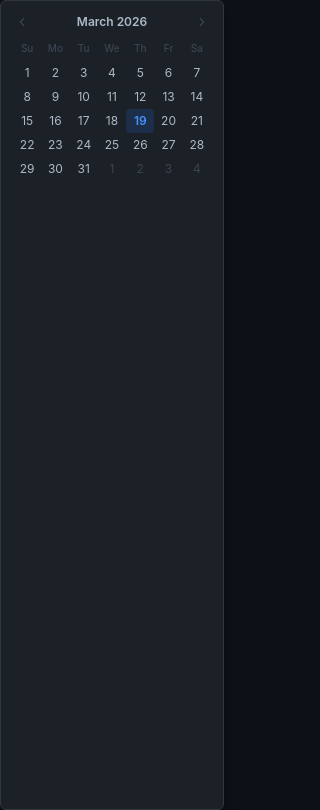
Test case: DatePicker › navigates to the previous month
Press the mouse on the button named "Previous month": (22, 22) [13,13,31,31]
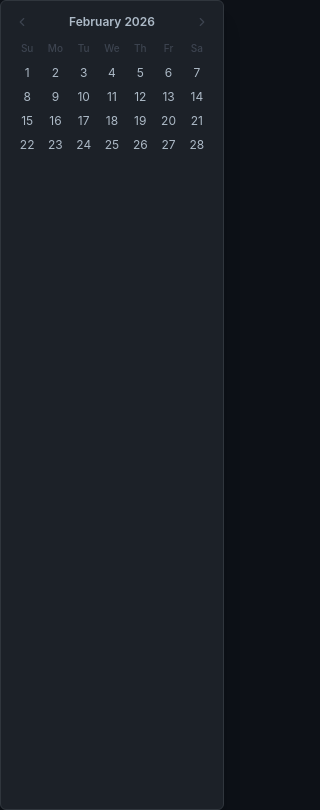
expect the text "February 2026" is shown: met, box [69,14,155,30]
